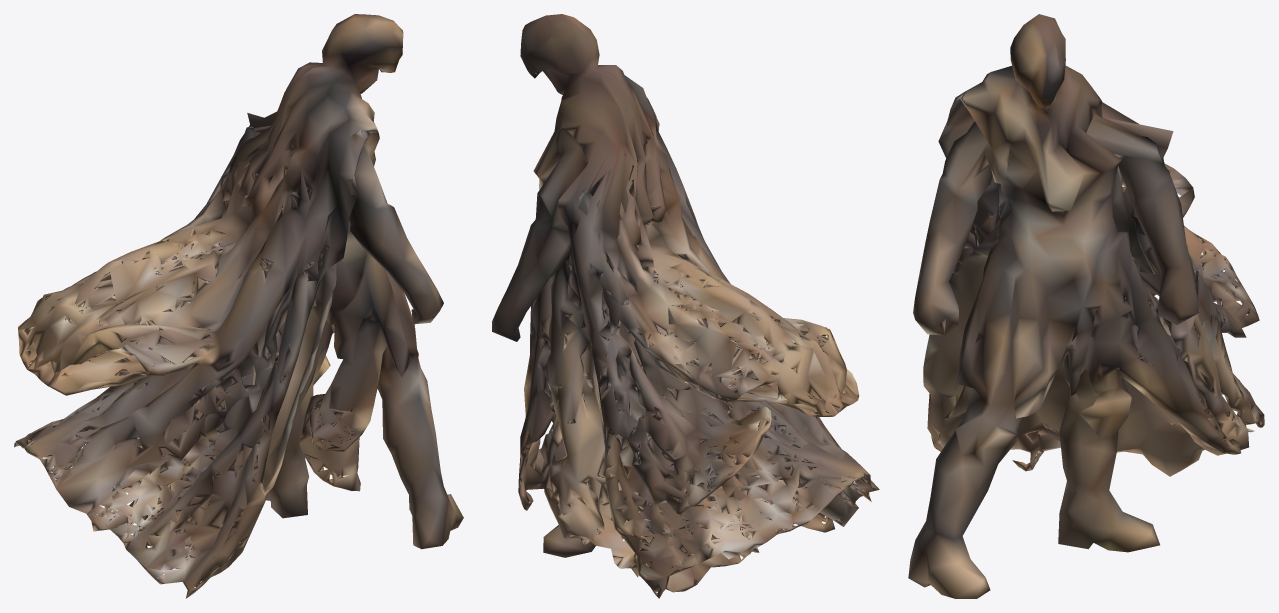
Rendered from paul.glb.
The picture shows the model from 3 angles, left to right: view 1: azimuth 30°, elevation 25°; view 2: azimuth 150°, elevation 25°; view 3: azimuth 270°, elevation 25°; orthographic projection. The views are drawn at different scales.
Parts seen in each view (by area): view 1: PaulAtreides; view 2: PaulAtreides; view 3: PaulAtreides.
Part boxes in pixels (x1,y1,x2,y2): PaulAtreides: [14, 14, 463, 598]; PaulAtreides: [492, 14, 879, 598]; PaulAtreides: [908, 14, 1264, 598].
Size of the model in its own units: 1.6 by 1.96 by 1.14.
